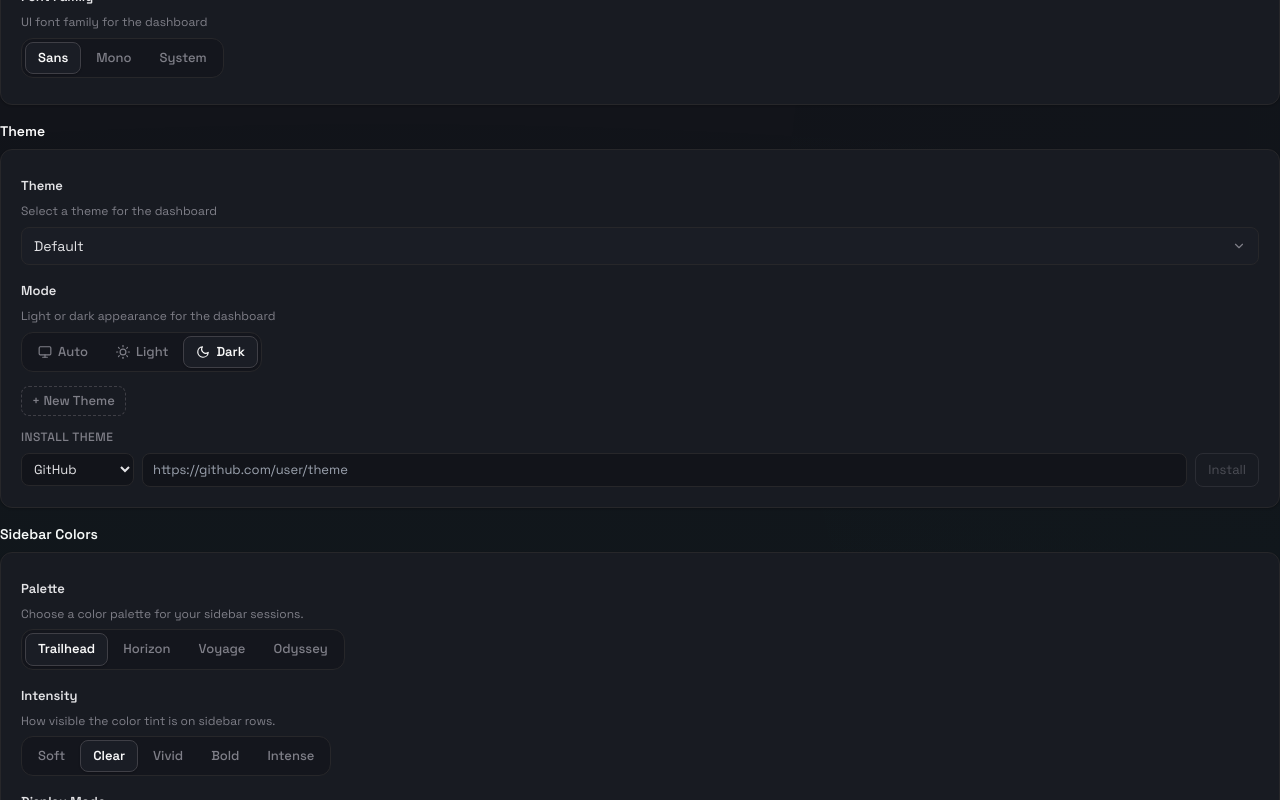
Test case: DisplayPanel – ThemeEditorPanel overlay › hides Sidebar Colors buttons behind the modal backdrop when ThemeEditorPanel is open
(page scrolled)
Expected: the heading "Sidebar Colors" is shown, [0,524,98,544]
Expected: the text "Palette" is shown, [21,579,65,599]
// Open the theme editor
What coordinates should you click on to do the following:
click the button "+ New Theme"
I would click on:
 (73, 401)
Its box is [21,386,126,416].
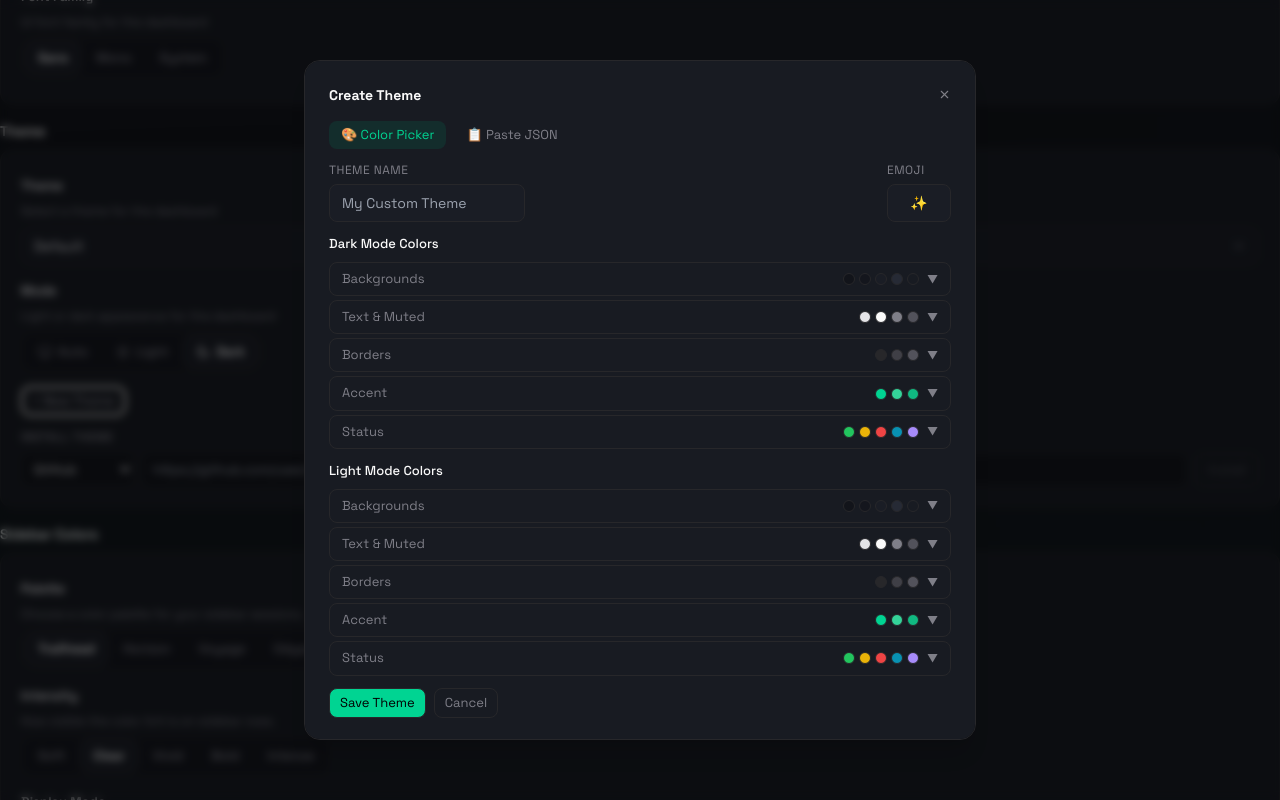
Result: the heading "Create Theme" is shown at [329,85,421,105]
Result: the button is shown
